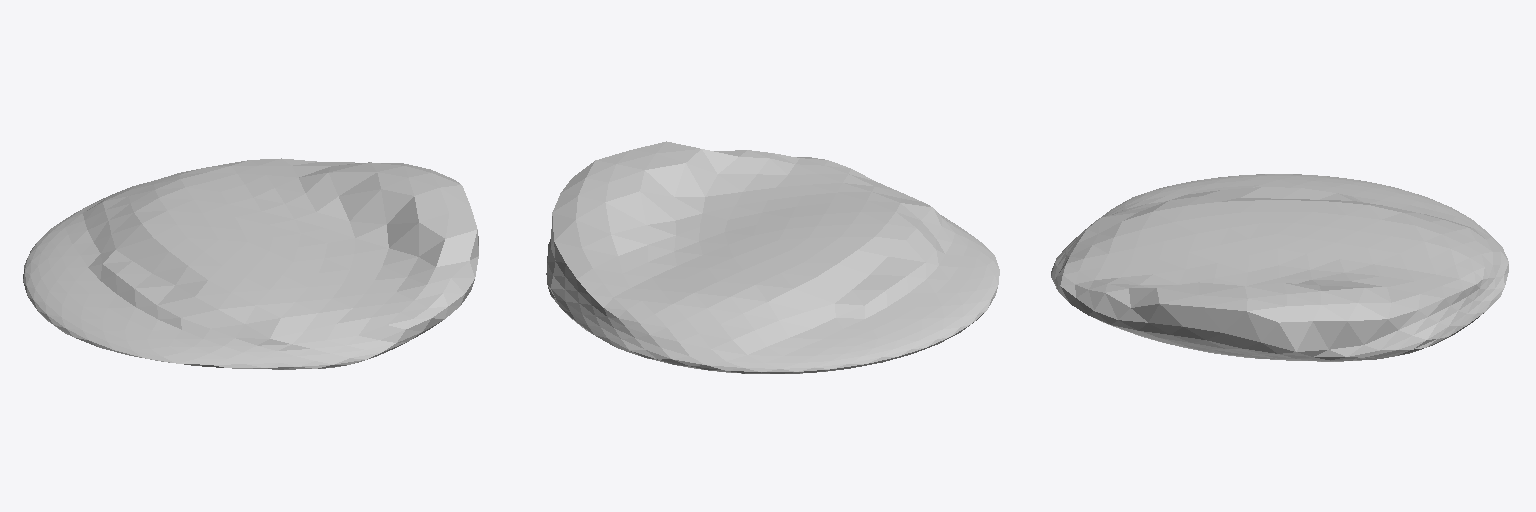
File: island.obj
The picture shows the model from 3 angles: view 1: azimuth 30°, elevation 25°; view 2: azimuth 150°, elevation 25°; view 3: azimuth 270°, elevation 25°; orthographic projection.
Parts seen in each view (by area): view 1: Icosphere; view 2: Icosphere; view 3: Icosphere.
Part boxes in pixels (x1,y1,x2,y2): Icosphere: (23,158,478,369); Icosphere: (546,141,999,373); Icosphere: (1051,174,1508,361).
Bounding box in the file's own units: 40.83 × 7.53 × 39.9.